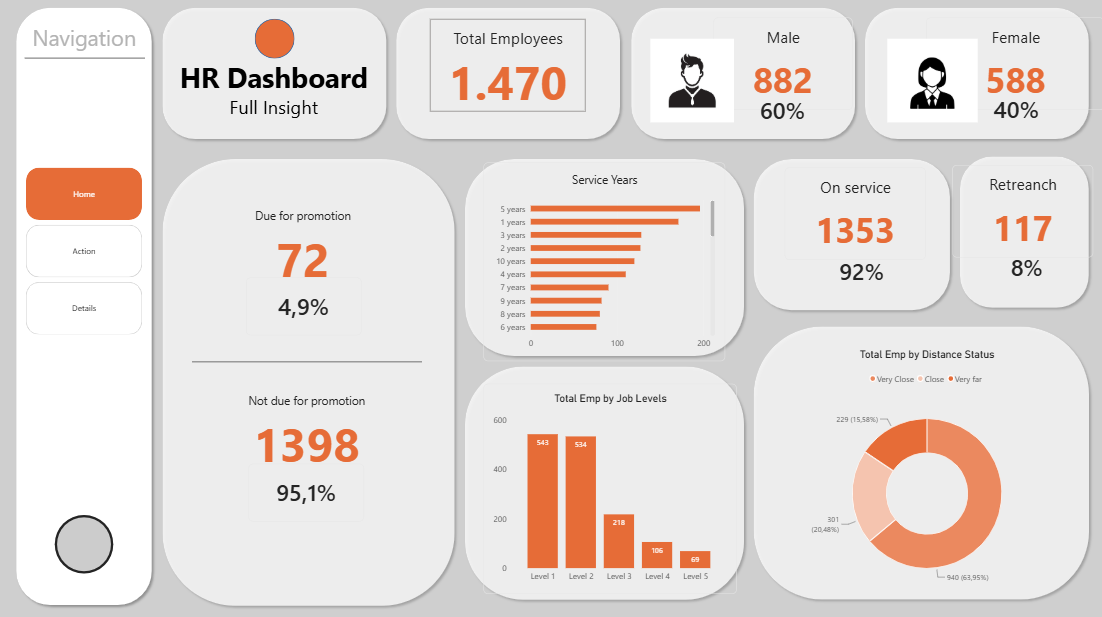

This screenshot's page, from the dashboard's own definition file:
{"tool":"powerbi","page":{"name":"Home","canvas":[1920,1080],"ordinal":0},"visuals":[{"type":"card","title":"Male","fields":{"Values":["All Measures.Male"]},"box":[1241.7,40,240.4,160.3],"z":0,"group":"g2"},{"type":"card","title":"Female","fields":{"Values":["All Measures.Female"]},"box":[1610,40,310,160],"z":0,"group":"g1"},{"type":"shape","box":[1660,270,240.9,279.8],"z":0},{"type":"card","title":"On service","fields":{"Values":["All Measures.On service"]},"box":[1366,298,244,160],"z":0,"group":"g3"},{"type":"shape","box":[25.3,13.3,252.7,1052.1],"z":1000},{"type":"card","fields":{"Values":["All Measures.% Female"]},"box":[1693.3,153.3,143.8,91.2],"z":1000,"group":"g1"},{"type":"card","fields":{"Values":["All Measures.% Male"]},"box":[1289.9,153.7,143.8,91.2],"z":1000,"group":"g2"},{"type":"card","fields":{"Values":["All Measures.% on service"]},"box":[1431,434.7,136.7,86.7],"z":1000,"group":"g3"},{"type":"card","title":"Retreanch","fields":{"Values":["All Measures.Retreanched"]},"box":[1656,294,244,160],"z":2000},{"type":"shape","box":[278.3,13.5,405.5,245.4],"z":3000},{"type":"card","fields":{"Values":["All Measures.% retreanced"]},"box":[1724,426,120,90],"z":4000},{"type":"shape","box":[684.4,13.5,405.5,245.4],"z":5000},{"type":"shape","box":[1496.5,13.5,405.5,245.4],"z":6000},{"type":"shape","box":[1090.4,13.5,405.5,245.4],"z":7000},{"type":"shape","box":[278.3,273.9,523.8,791.6],"z":8000},{"type":"shape","box":[802.1,273.9,501.3,359.2],"z":9000},{"type":"shape","box":[802.1,633,501.3,422],"z":10000},{"type":"shape","box":[1303.4,273.9,357.7,279.8],"z":11000},{"type":"shape","box":[1303.4,564.2,598.6,490.8],"z":12000},{"type":"textbox","box":[285.8,109.2,390.6,106.3],"z":13000},{"type":"shape","box":[447.5,40.4,68.8,68.8],"z":14000},{"type":"card","title":"Total Employees","fields":{"Values":["All Measures.Total Emp"]},"box":[750.9,40.1,270.1,160.3],"z":15000},{"type":"group","id":"g1","title":"Group 1","box":[1610,40,310,205],"z":16000},{"type":"group","id":"g2","title":"Group 2","box":[1241.7,40,240,205],"z":17000},{"type":"shape","box":[1543.3,75,156.7,145],"z":18000},{"type":"image","box":[1130,75,151.7,145],"z":19000},{"type":"card","title":"Due for promotion","fields":{"Values":["All Measures.Due for promotion"]},"box":[388,352,288,174],"z":20000},{"type":"card","fields":{"Values":["All Measures.% Due for promotion"]},"box":[432,490,200,100],"z":21000},{"type":"card","title":"Not due for promotion","fields":{"Values":["All Measures.Not due for promotion"]},"box":[394,674,288,174],"z":22000},{"type":"card","fields":{"Values":["All Measures.% Not due"]},"box":[438,812,200,100],"z":23000},{"type":"clusteredBarChart","title":"Service Years","fields":{"Category":["HR Analytics Data.Service year"],"Y":["All Measures.Total Emp"]},"box":[844,290,418,344],"z":24000},{"type":"clusteredColumnChart","fields":{"Category":["HR Analytics Data.Job Levels"],"Y":["All Measures.Total Emp"]},"box":[844,674,438,364],"z":25000},{"type":"group","id":"g3","title":"Group 1","box":[1366,298,244,223.3],"z":26000},{"type":"donutChart","fields":{"Category":["HR Analytics Data.Distance Status"],"Y":["All Measures.Total Emp"]},"box":[1366.7,598.3,488.3,466.7],"z":27000},{"type":"image","box":[1554.8,107.7,134.3,89.1],"z":28000},{"type":"shape","box":[49.8,2.2,207.8,214.3],"z":28500},{"type":"shape","box":[340.5,484.1,397.7,300.6],"z":29000},{"type":"pageNavigator","box":[51.9,298.7,201.3,290],"z":30000},{"type":"textbox","box":[62.8,47.6,216.4,62.8],"z":31000},{"type":"shape","box":[101.3,899.4,101.3,101.3],"z":32001}]}

Visuals, with their boxes in screenshot pixels (x1, y1, x2, y2), scaled from the page's 1920x1080 canvas onto the 1102x617 screenshot:
"Male" card: rect(713, 23, 851, 114)
"Female" card: rect(924, 23, 1101, 114)
shape: rect(953, 154, 1091, 314)
"On service" card: rect(784, 170, 924, 262)
shape: rect(15, 8, 160, 609)
card - All Measures.% Female: rect(972, 88, 1054, 140)
card - All Measures.% Male: rect(740, 88, 823, 140)
card - All Measures.% on service: rect(821, 248, 900, 298)
"Retreanch" card: rect(950, 168, 1091, 259)
shape: rect(160, 8, 392, 148)
card - All Measures.% retreanced: rect(990, 243, 1058, 295)
shape: rect(393, 8, 626, 148)
shape: rect(859, 8, 1092, 148)
shape: rect(626, 8, 859, 148)
shape: rect(160, 156, 460, 609)
shape: rect(460, 156, 748, 362)
shape: rect(460, 362, 748, 603)
shape: rect(748, 156, 953, 316)
shape: rect(748, 322, 1092, 603)
textbox: rect(164, 62, 388, 123)
shape: rect(257, 23, 296, 62)
"Total Employees" card: rect(431, 23, 586, 114)
"Group 1" group: rect(924, 23, 1101, 140)
"Group 2" group: rect(713, 23, 850, 140)
shape: rect(886, 43, 976, 126)
image: rect(649, 43, 736, 126)
"Due for promotion" card: rect(223, 201, 388, 301)
card - All Measures.% Due for promotion: rect(248, 280, 363, 337)
"Not due for promotion" card: rect(226, 385, 391, 484)
card - All Measures.% Not due: rect(251, 464, 366, 521)
"Service Years" clusteredBarChart: rect(484, 166, 724, 362)
clusteredColumnChart - HR Analytics Data.Job Levels x All Measures.Total Emp: rect(484, 385, 736, 593)
"Group 1" group: rect(784, 170, 924, 298)
donutChart - HR Analytics Data.Distance Status x All Measures.Total Emp: rect(784, 342, 1065, 608)
image: rect(892, 62, 969, 112)
shape: rect(29, 1, 148, 124)
shape: rect(195, 277, 424, 448)
pageNavigator: rect(30, 171, 145, 336)
textbox: rect(36, 27, 160, 63)
shape: rect(58, 514, 116, 572)
